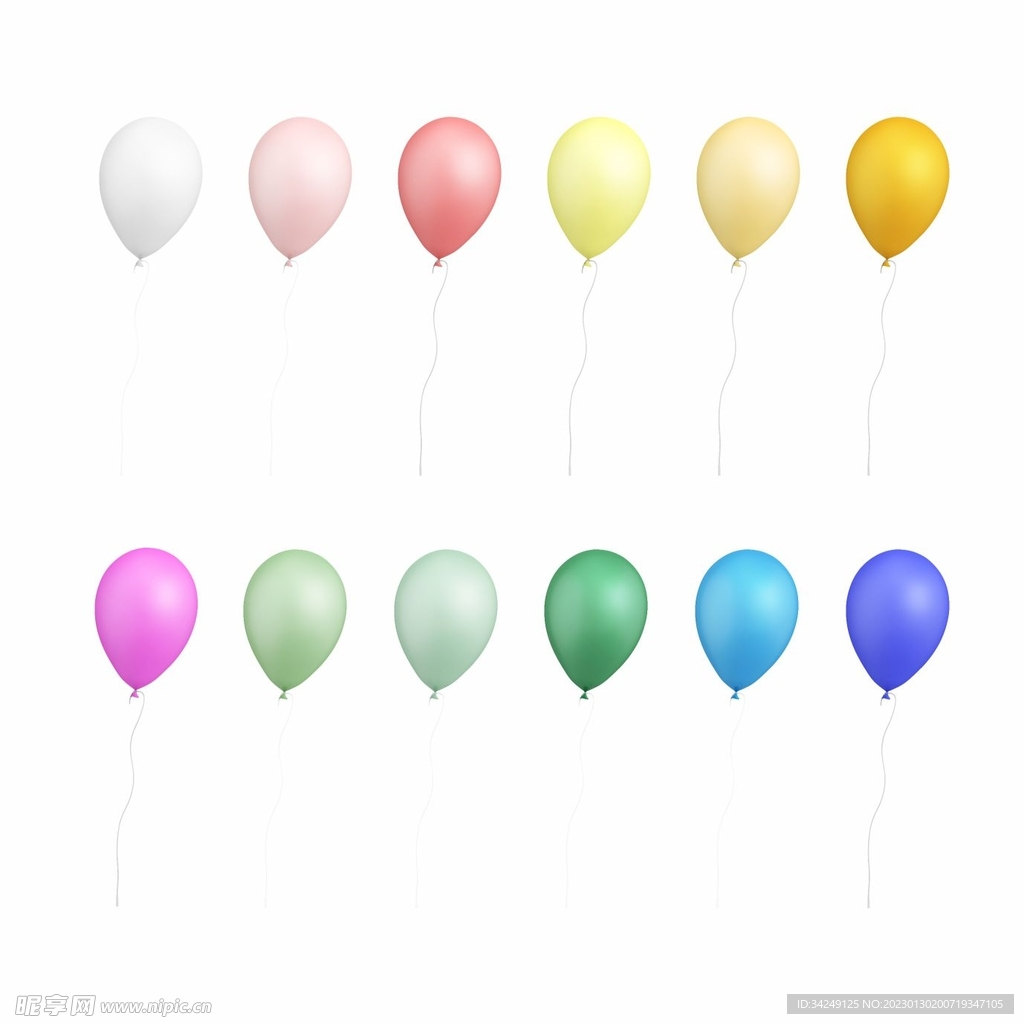balloon: (547, 117, 650, 473), (846, 117, 949, 472), (398, 117, 501, 470), (697, 117, 799, 472), (544, 550, 647, 699), (243, 550, 346, 698), (394, 550, 497, 698), (695, 550, 798, 698), (99, 117, 201, 265), (249, 118, 351, 266), (95, 548, 197, 695), (846, 550, 949, 695)
